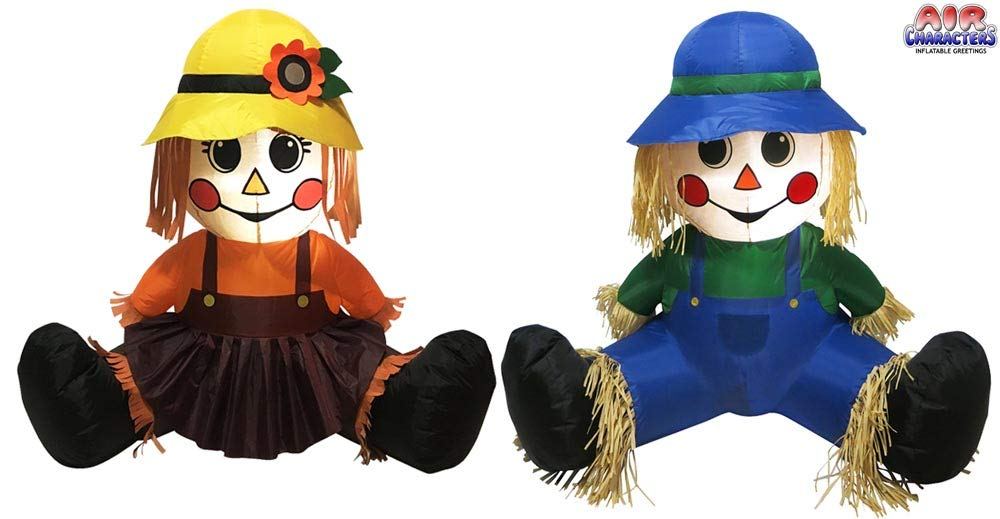person-like: (497, 3, 996, 519), (7, 3, 500, 519)
